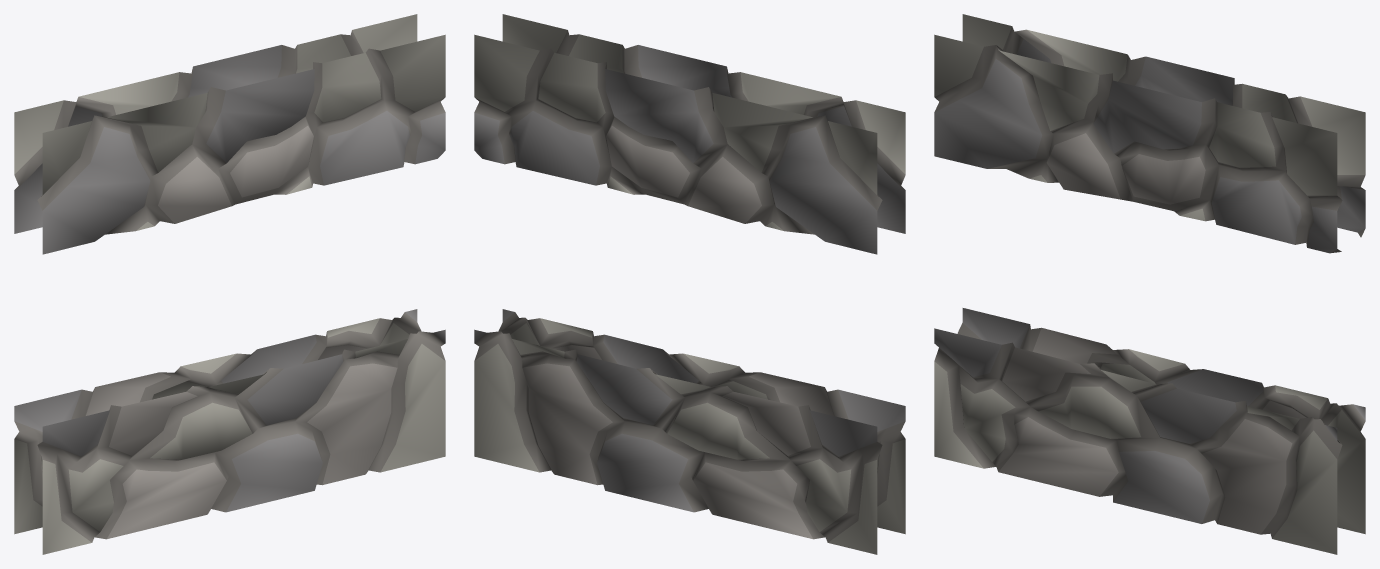
File: rpgpp_ag_wall_03_3x3_window_b.fbx
3 renders of one model, left to right at view 1: azimuth 30°, elevation 25°; view 2: azimuth 150°, elevation 25°; view 3: azimuth 330°, elevation 25°, orthographic.
Parts seen in each view (by area): view 1: rpgpp_ag_wall_03_3x3_window_b; view 2: rpgpp_ag_wall_03_3x3_window_b; view 3: rpgpp_ag_wall_03_3x3_window_b.
Boxes of the visible parts, box(x1,y1,x2,y2) form: rpgpp_ag_wall_03_3x3_window_b: box(14, 14, 445, 554); rpgpp_ag_wall_03_3x3_window_b: box(474, 14, 905, 554); rpgpp_ag_wall_03_3x3_window_b: box(934, 14, 1365, 554).
Size of the model in its own units: 3 by 3 by 0.4237.
